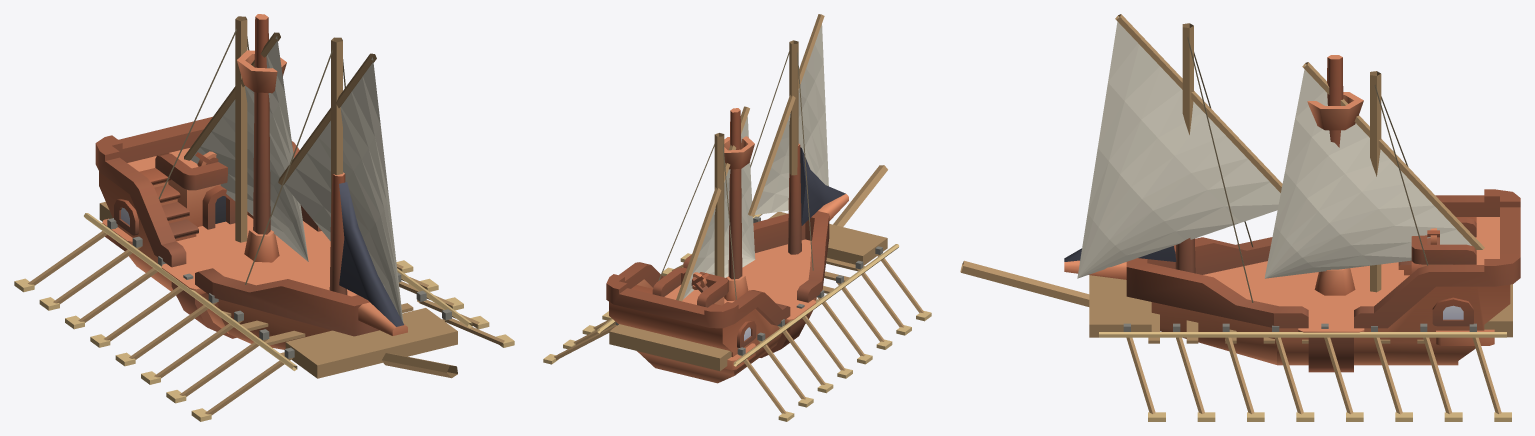
The model's file is galley-custom.glb.
3 views of the same model, side by side, from view 1: azimuth 30°, elevation 25°; view 2: azimuth 150°, elevation 25°; view 3: azimuth 270°, elevation 25° (orthographic). The views are drawn at different scales.
Parts seen in each view (by area): view 1: ship-pirate-small, galley wood, galley linen, galley bronze, galley black, galley rope; view 2: ship-pirate-small, galley wood, galley linen, galley bronze, galley rope, galley black; view 3: galley linen, ship-pirate-small, galley wood, galley bronze, galley rope.
Part boxes in pixels (x1,y1,x2,y2): ship-pirate-small: (95, 14, 407, 349); galley wood: (28, 16, 504, 414); galley linen: (191, 36, 403, 322); galley bronze: (14, 213, 514, 421); galley black: (107, 218, 451, 358); galley rope: (158, 28, 345, 284); ship-pirate-small: (606, 108, 848, 383); galley wood: (554, 14, 923, 413); galley linen: (683, 24, 828, 299); galley bronze: (543, 214, 931, 421); galley rope: (658, 51, 813, 299); galley black: (615, 216, 882, 355); galley linen: (1077, 17, 1471, 278); ship-pirate-small: (1064, 55, 1520, 372); galley wood: (960, 14, 1512, 414); galley bronze: (1099, 332, 1511, 421); galley rope: (1187, 37, 1428, 302).
Size of the model in its own units: 7.38 by 7.76 by 11.67.
Materials: 6 (1 with a texture image).
